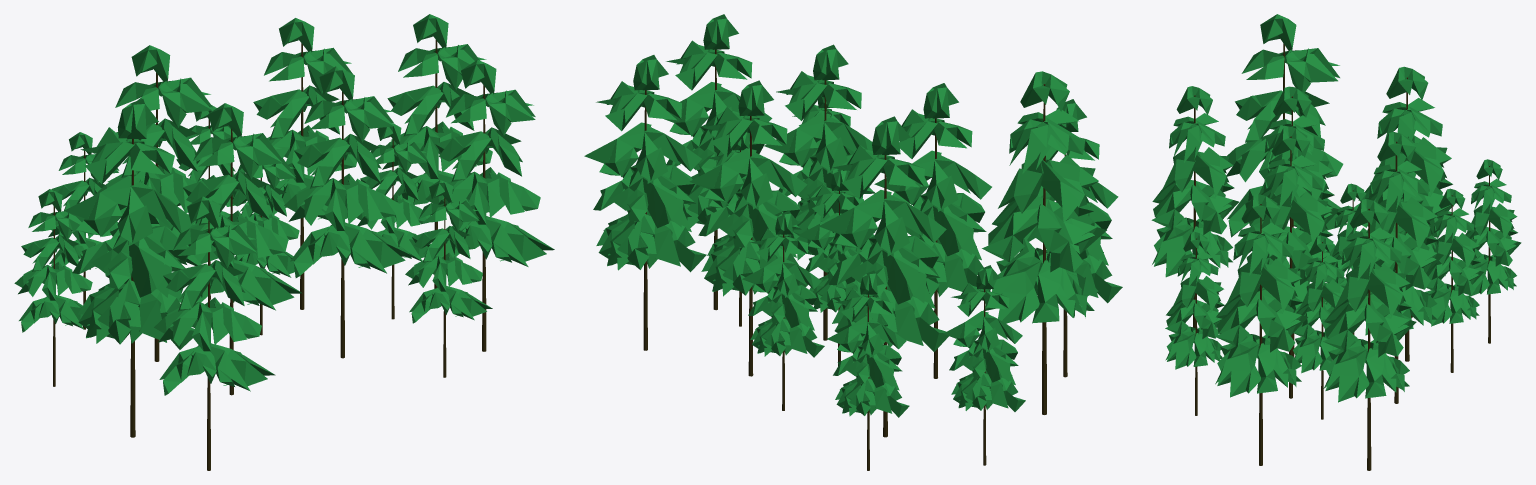
The model's file is arboles.glb.
3 views of the same model, side by side, from view 1: azimuth 30°, elevation 25°; view 2: azimuth 150°, elevation 25°; view 3: azimuth 270°, elevation 25° (orthographic). The views are drawn at different scales.
Parts seen in each view (by area): view 1: tronco.001 (×14), Cylinder (×2); view 2: tronco.001 (×14), Cylinder; view 3: tronco.001 (×13), Cylinder (×2).
Boxes of the visible parts, x1,y1,x2,y2 form: tronco.001 (×14): (14,14,554,395); Cylinder (×2): (130,92,344,437); tronco.001 (×14): (584,14,1122,417); Cylinder: (1042,84,1046,414); tronco.001 (×13): (1151,14,1521,402); Cylinder (×2): (1259,204,1371,470).
Size of the model in its own units: 35.15 by 25.06 by 26.79.
